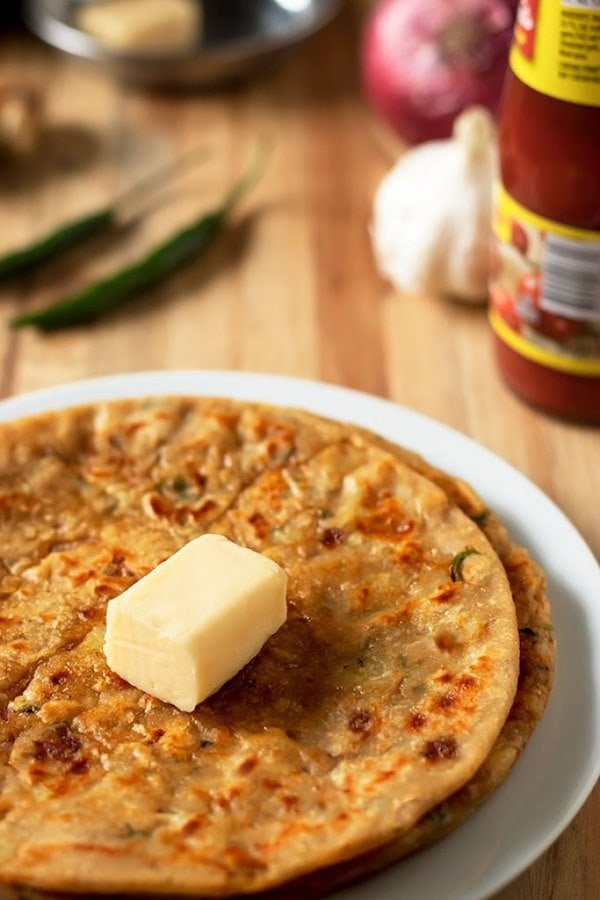aloo_paratha: (1, 392, 560, 886)
